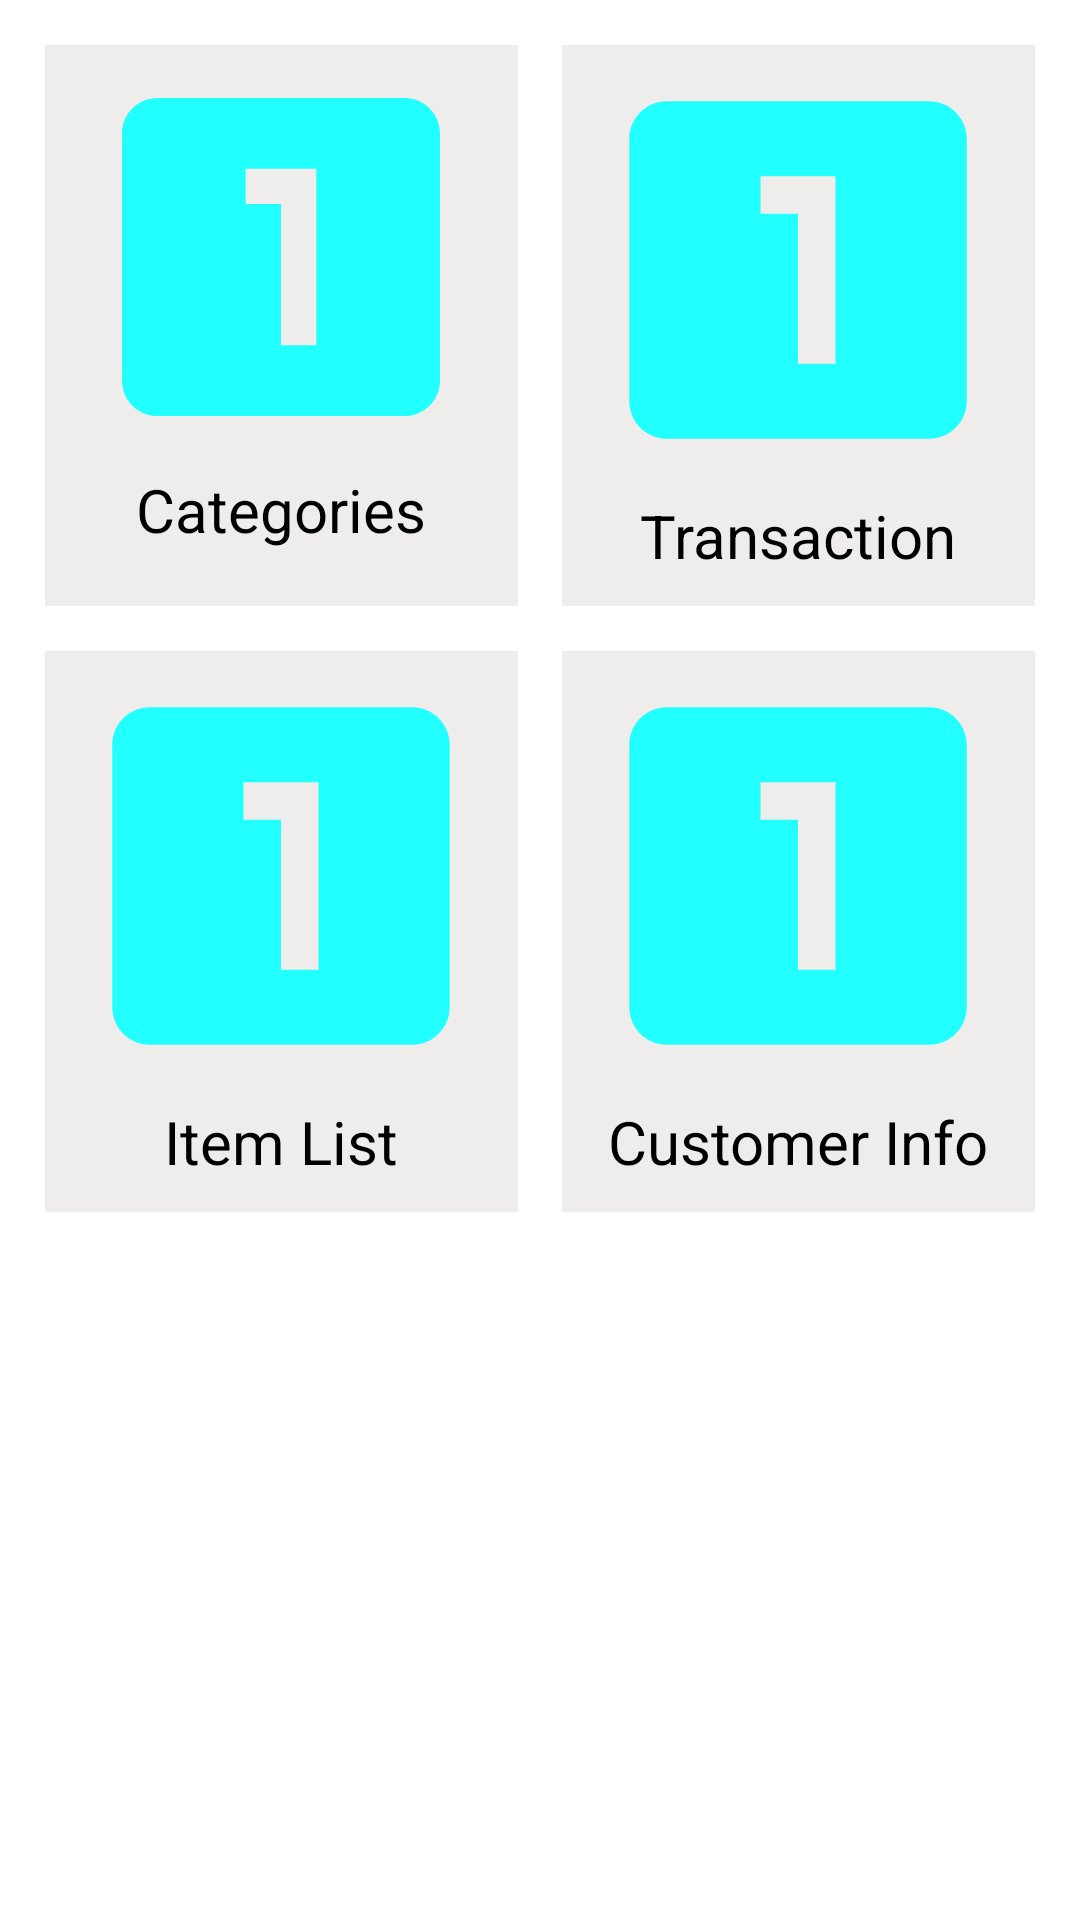

Where icons sit on this 1080px x 1920px app screen, as (x1, y1, x2, y2):
looks one: (122, 98, 440, 416), (629, 101, 967, 439), (112, 707, 450, 1045), (629, 707, 967, 1045)
